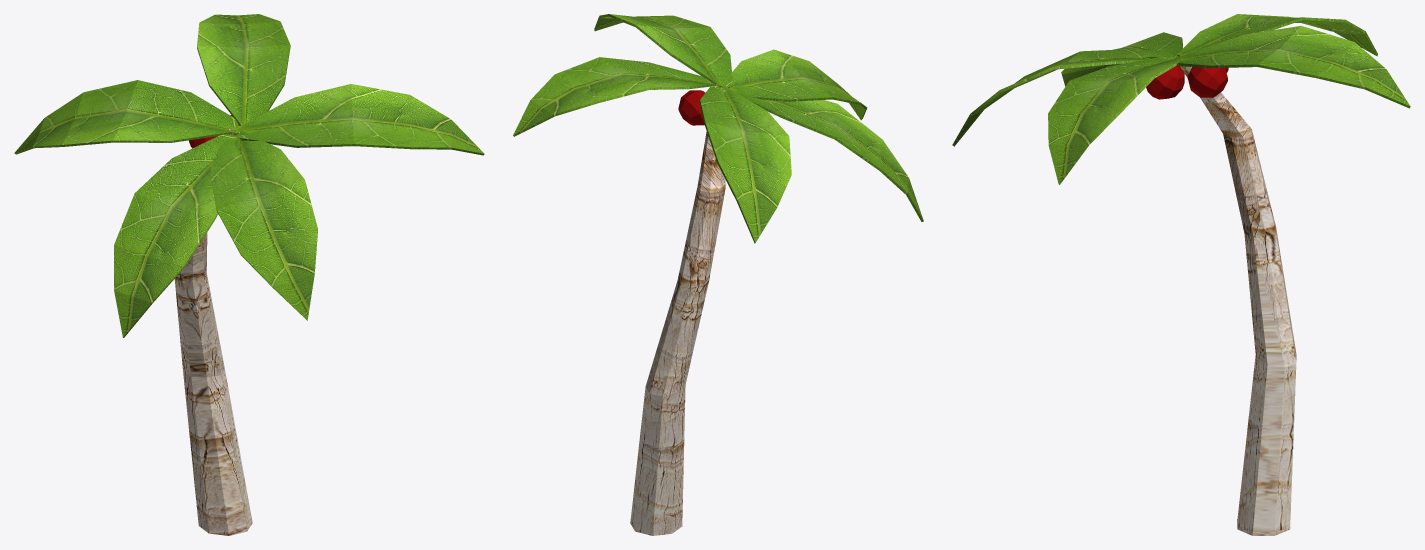
Rendered from coco 2.fbx.
3 views of the same model, side by side, from view 1: azimuth 30°, elevation 25°; view 2: azimuth 150°, elevation 25°; view 3: azimuth 270°, elevation 25° (orthographic). The views are drawn at different scales.
Visible parts, largest first — view 1: polySurface54; view 2: polySurface54; view 3: polySurface54.
Part boxes in pixels (<box>): polySurface54: <box>14,14,484,535</box>; polySurface54: <box>513,14,923,535</box>; polySurface54: <box>952,14,1410,535</box>.
Bounding box in the file's own units: 11.04 × 14.06 × 11.84.
